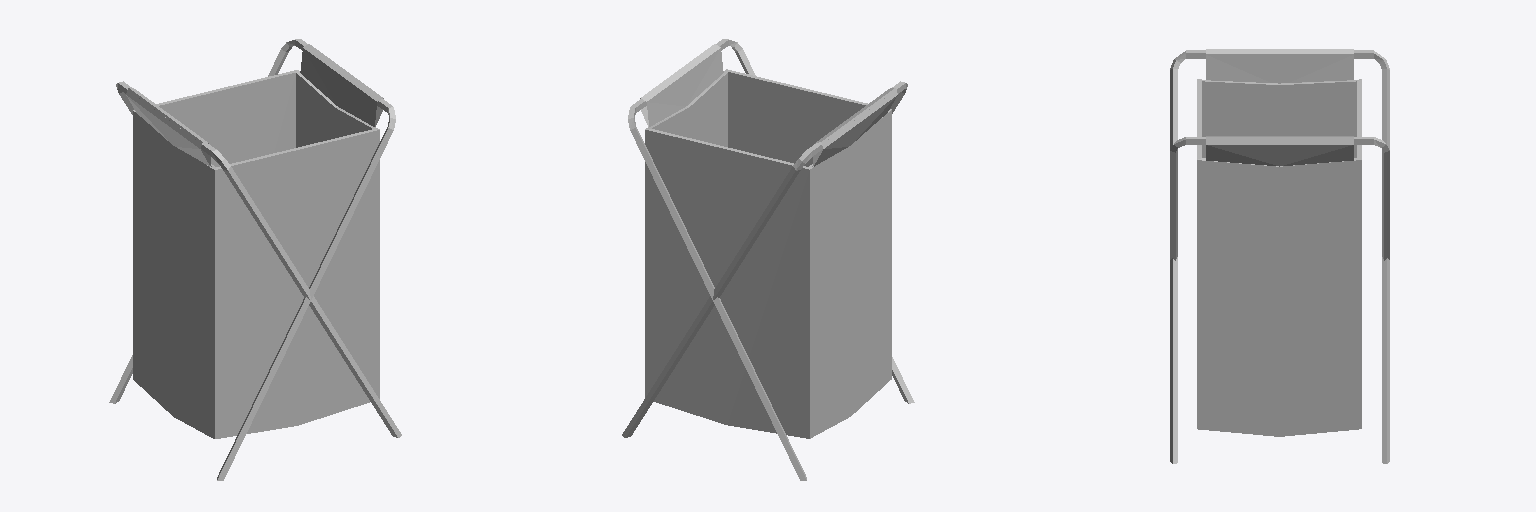
Rendered from bathroom_item_001.obj.
3 renders of one model, left to right at view 1: azimuth 30°, elevation 25°; view 2: azimuth 150°, elevation 25°; view 3: azimuth 270°, elevation 25°, orthographic.
Visible parts, largest first — view 1: bathroom_item_001; view 2: bathroom_item_001; view 3: bathroom_item_001.
Part boxes in pixels (x1,y1,x2,y2): bathroom_item_001: (109, 39, 401, 480); bathroom_item_001: (622, 39, 914, 480); bathroom_item_001: (1170, 49, 1389, 463).
Size of the model in its own units: 0.46 by 0.7714 by 0.4717.